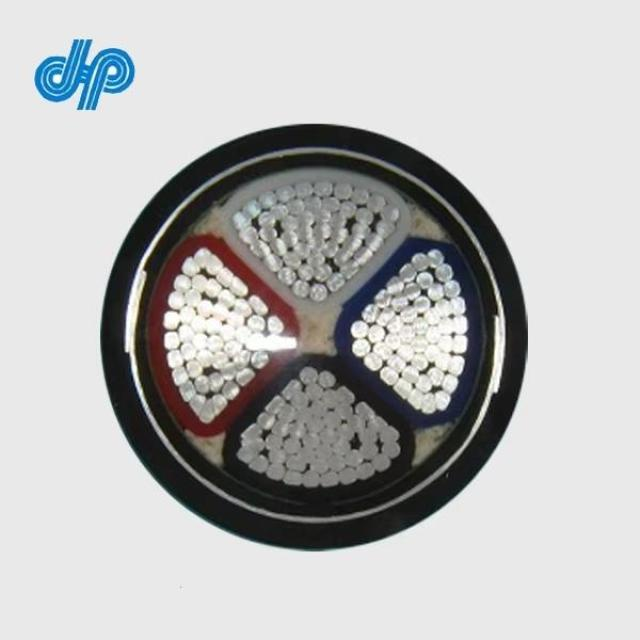wire: (377, 364, 400, 387), (290, 279, 311, 302), (248, 294, 269, 316), (246, 314, 268, 335), (447, 353, 467, 376), (349, 336, 370, 357), (202, 253, 223, 274), (317, 368, 338, 389), (309, 282, 330, 303), (264, 461, 284, 482), (234, 444, 255, 464), (300, 469, 320, 490), (376, 308, 397, 328), (296, 364, 317, 384), (276, 400, 296, 421), (433, 262, 456, 280), (281, 384, 304, 402), (332, 256, 355, 274), (434, 389, 451, 413), (191, 394, 208, 418), (332, 180, 352, 200), (161, 328, 180, 349), (161, 309, 180, 330), (325, 273, 346, 292), (164, 288, 183, 309), (398, 368, 417, 389), (236, 366, 256, 385), (352, 400, 373, 418), (266, 314, 284, 335), (178, 256, 199, 274), (274, 182, 295, 200), (275, 268, 297, 285), (371, 454, 393, 471), (322, 387, 339, 409), (412, 296, 432, 314), (364, 232, 384, 250), (248, 240, 268, 258), (380, 424, 400, 442), (444, 278, 464, 296), (203, 277, 220, 298), (452, 314, 469, 335), (229, 210, 250, 227), (164, 349, 183, 367), (251, 349, 270, 367), (366, 324, 385, 342), (343, 448, 362, 466), (236, 226, 256, 243), (180, 340, 197, 360), (255, 412, 275, 429), (372, 290, 392, 307), (258, 225, 279, 241), (193, 373, 209, 394), (170, 273, 191, 289), (280, 214, 301, 230), (296, 262, 314, 280), (182, 288, 200, 306), (356, 205, 374, 223), (294, 180, 312, 198), (280, 230, 298, 248), (224, 308, 242, 326), (178, 382, 195, 401), (258, 190, 275, 209), (382, 204, 401, 221), (398, 324, 414, 344), (427, 365, 442, 386), (320, 471, 338, 488), (434, 298, 451, 316), (304, 196, 322, 213), (412, 352, 429, 370), (218, 288, 235, 306), (210, 394, 227, 412), (314, 178, 332, 195), (399, 264, 416, 282), (320, 239, 338, 256), (352, 186, 370, 203), (413, 332, 428, 352), (422, 394, 436, 415), (381, 440, 402, 454), (332, 226, 349, 243), (348, 226, 365, 243), (404, 282, 422, 298), (324, 410, 340, 428), (398, 344, 414, 362), (256, 209, 274, 225), (336, 422, 354, 438), (426, 324, 440, 344), (179, 306, 195, 323), (284, 248, 301, 264), (314, 444, 330, 461), (374, 342, 391, 358), (287, 422, 304, 438), (287, 198, 304, 214), (389, 294, 406, 310), (208, 333, 223, 351), (341, 468, 356, 486), (317, 221, 332, 239), (339, 200, 354, 218), (321, 198, 340, 212), (264, 334, 280, 350), (310, 401, 326, 417), (286, 454, 302, 470), (284, 437, 301, 452), (203, 317, 220, 332), (211, 351, 226, 368), (306, 416, 323, 431), (303, 432, 320, 447), (413, 316, 428, 333), (264, 434, 282, 448), (427, 282, 442, 298), (236, 348, 250, 365), (320, 429, 335, 444), (236, 324, 250, 340), (330, 454, 344, 470), (440, 333, 452, 351), (198, 349, 212, 364), (221, 326, 236, 340), (358, 429, 376, 440)
